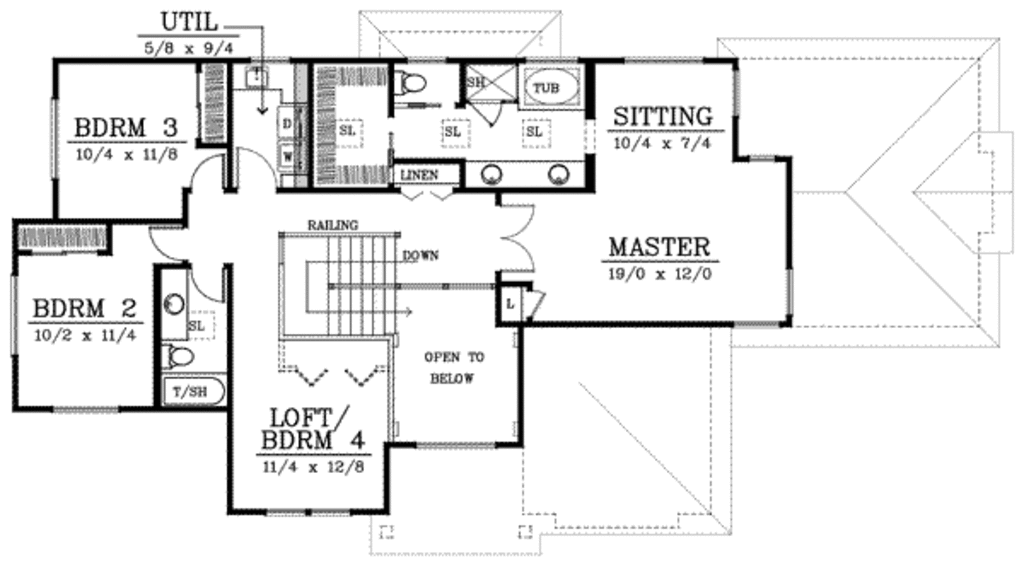door: (490, 200, 539, 274), (179, 144, 233, 194), (228, 143, 279, 193), (142, 223, 194, 264), (187, 262, 229, 306)
large_sink: (160, 338, 203, 373), (390, 63, 436, 94)
sink: (237, 56, 280, 85)
small_sink: (471, 150, 581, 190), (160, 273, 193, 338)
stairs: (265, 223, 426, 346)
tub: (516, 61, 588, 115), (163, 374, 230, 406)
window: (46, 75, 64, 190), (409, 435, 501, 454), (261, 503, 355, 520), (729, 310, 789, 333), (8, 270, 24, 355), (618, 51, 704, 66), (724, 66, 748, 116), (51, 400, 128, 414), (780, 271, 797, 314), (405, 52, 454, 64), (745, 149, 781, 164)
